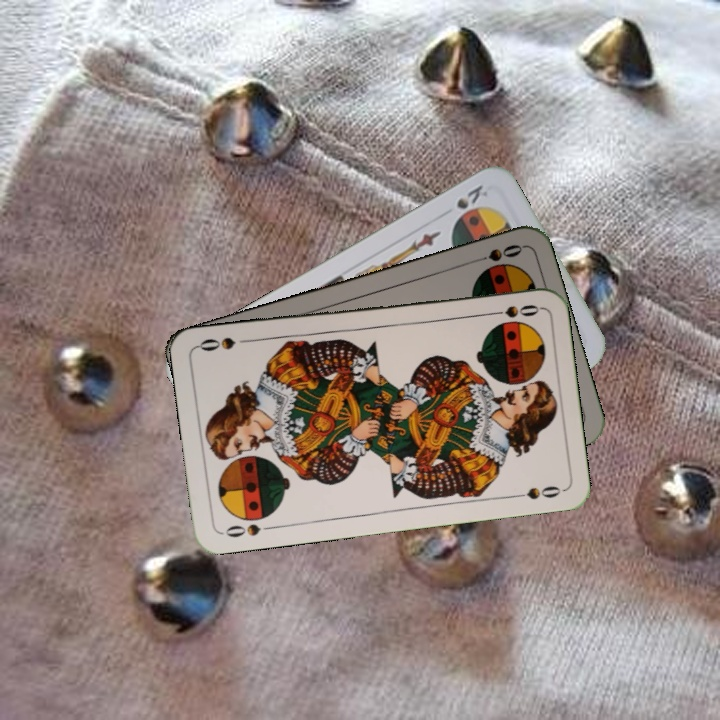SK: (452, 180, 491, 212)
SO: (467, 240, 525, 266), (483, 300, 542, 321), (221, 520, 277, 540)
